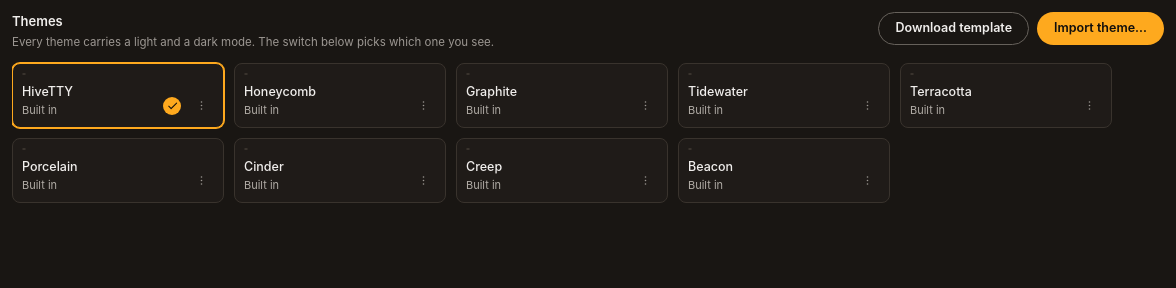
Test: ThemeGallery › pushes an import named after a shipped theme to a free id
This screenshot has width=1176, height=288.
Click the button "Import theme…".
click(1100, 28)  # box [1037,12,1164,45]
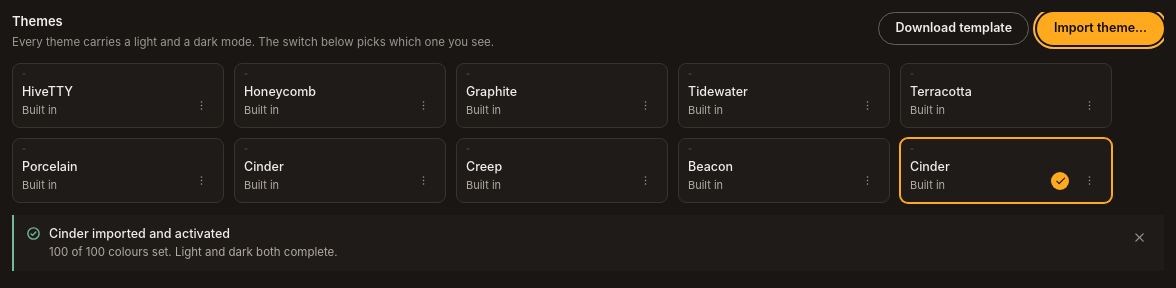
Check: the text "Cinder imported and activated" is shown, box [49,226,230,241]
